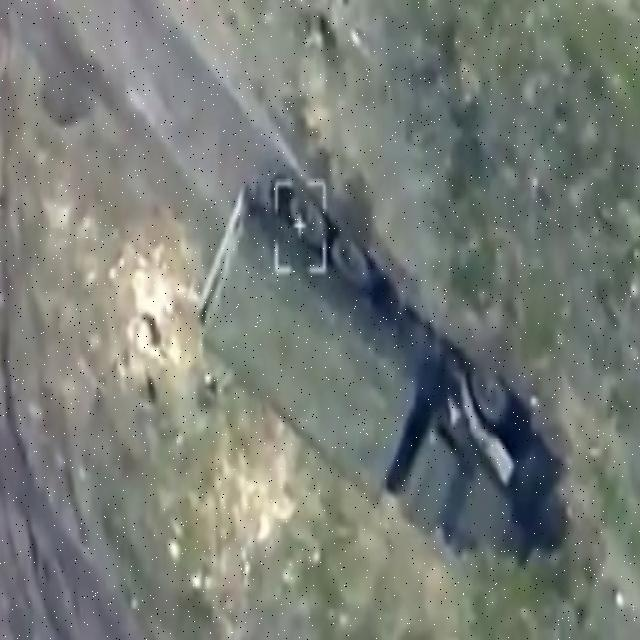TRUCK: (202, 166, 536, 562)
